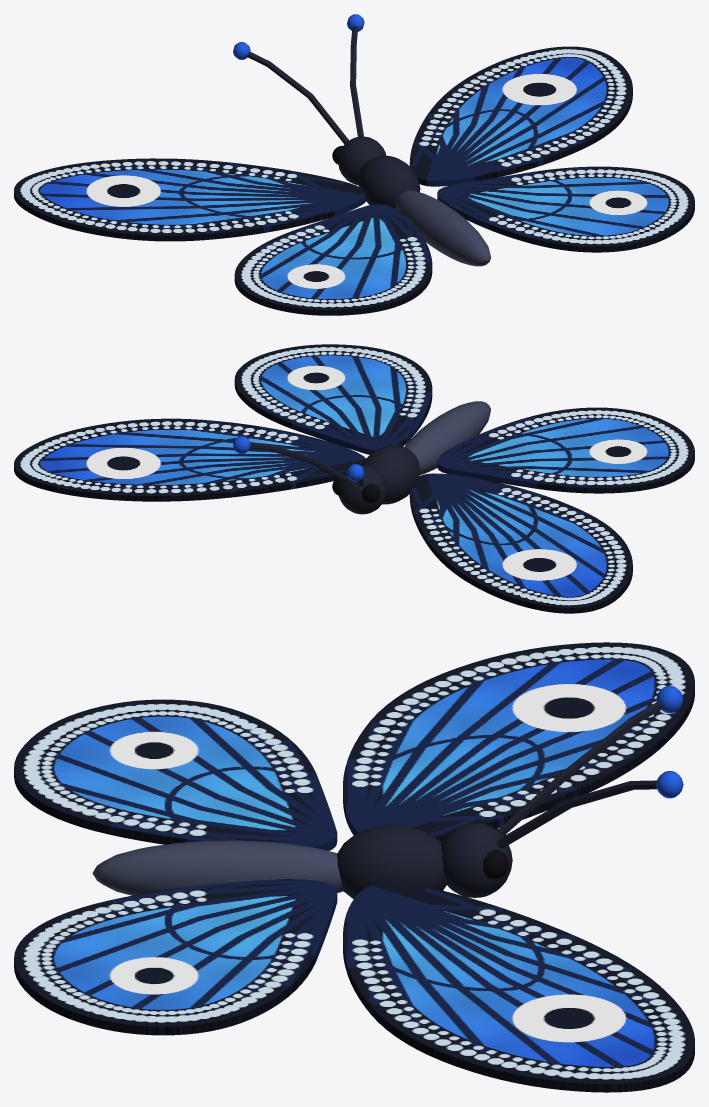
File: Butterfly_Morpho.fbx
The picture shows the model from 3 angles, top to bottom: view 1: azimuth 30°, elevation 25°; view 2: azimuth 150°, elevation 25°; view 3: azimuth 270°, elevation 25°; orthographic projection. The views are drawn at different scales.
Visible parts, largest first — view 1: WingL, WingR, Body; view 2: WingL, WingR, Body; view 3: WingR, WingL, Body.
Part boxes in pixels (x1,y1,x2,y2): WingL: [14, 158, 432, 315]; WingR: [409, 46, 694, 252]; Body: [233, 14, 490, 266]; WingL: [409, 407, 694, 613]; WingR: [14, 344, 432, 501]; Body: [233, 401, 490, 514]; WingR: [14, 879, 694, 1092]; WingL: [14, 642, 694, 850]; Body: [92, 686, 683, 899].
Bounding box in the file's own units: 0.6647 × 0.124 × 0.4333.
Materials: 1 (1 with a texture image).
